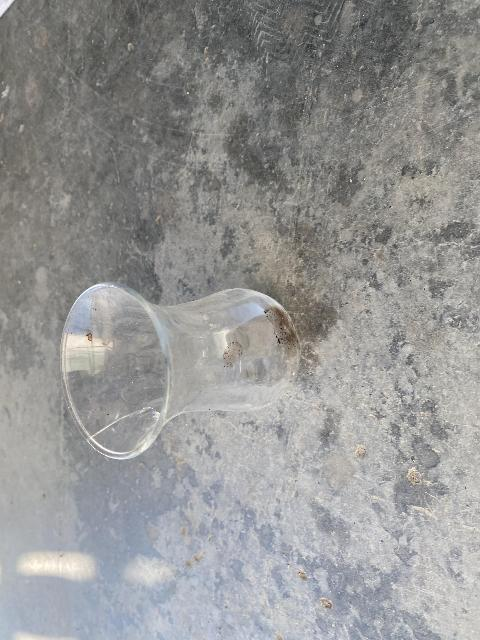Cam: (52, 279, 329, 462), (60, 394, 73, 424)
